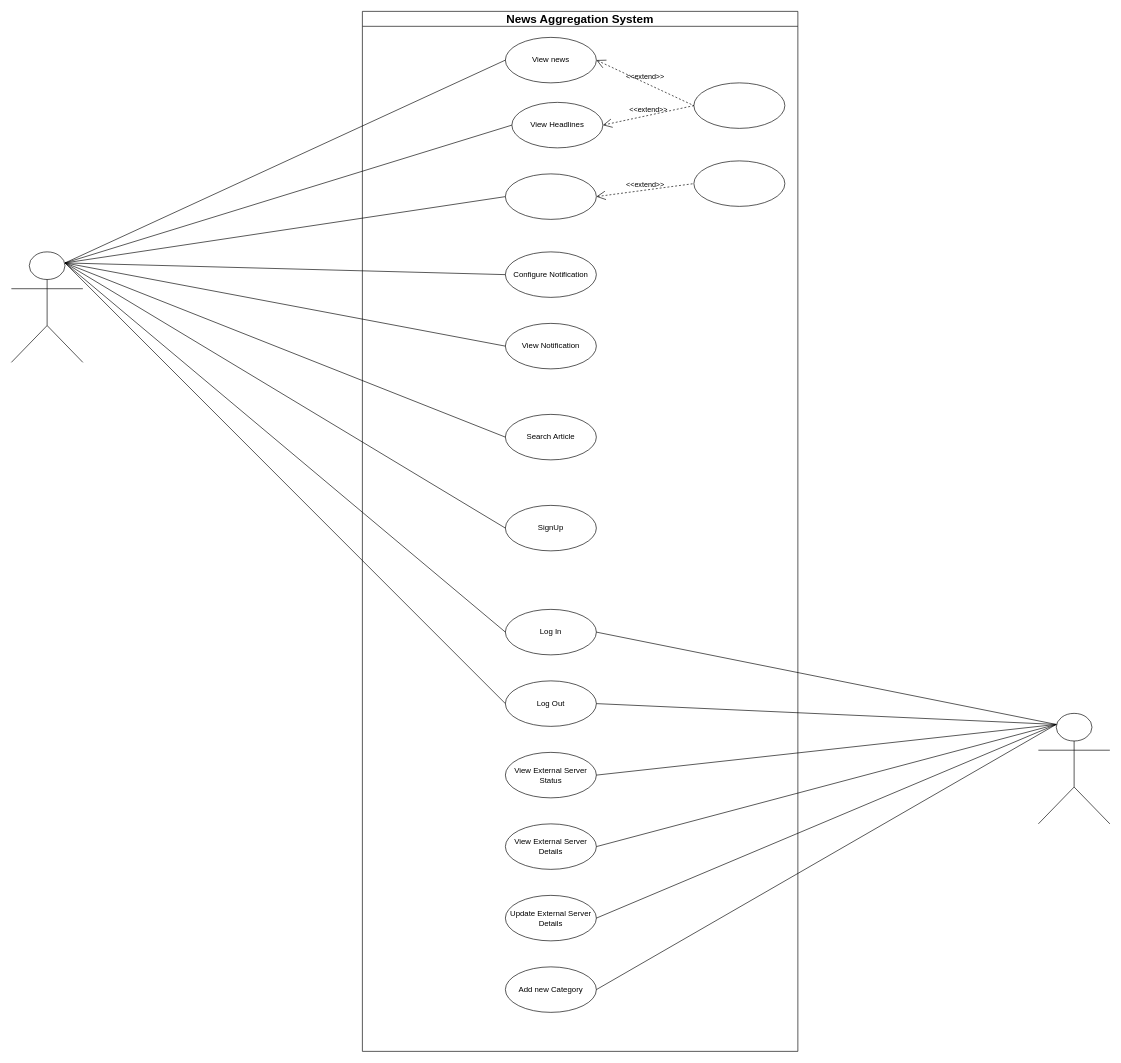
Image size: 1121x1063. Some labels were removed from this diagram. Each missing label, with the centre of its shape:
Admin: pixel 1074 768
Delete Saved Article: pixel 739 183
Save Article: pixel 739 105
User: pixel 47 306
View Saved Article: pixel 550 196
